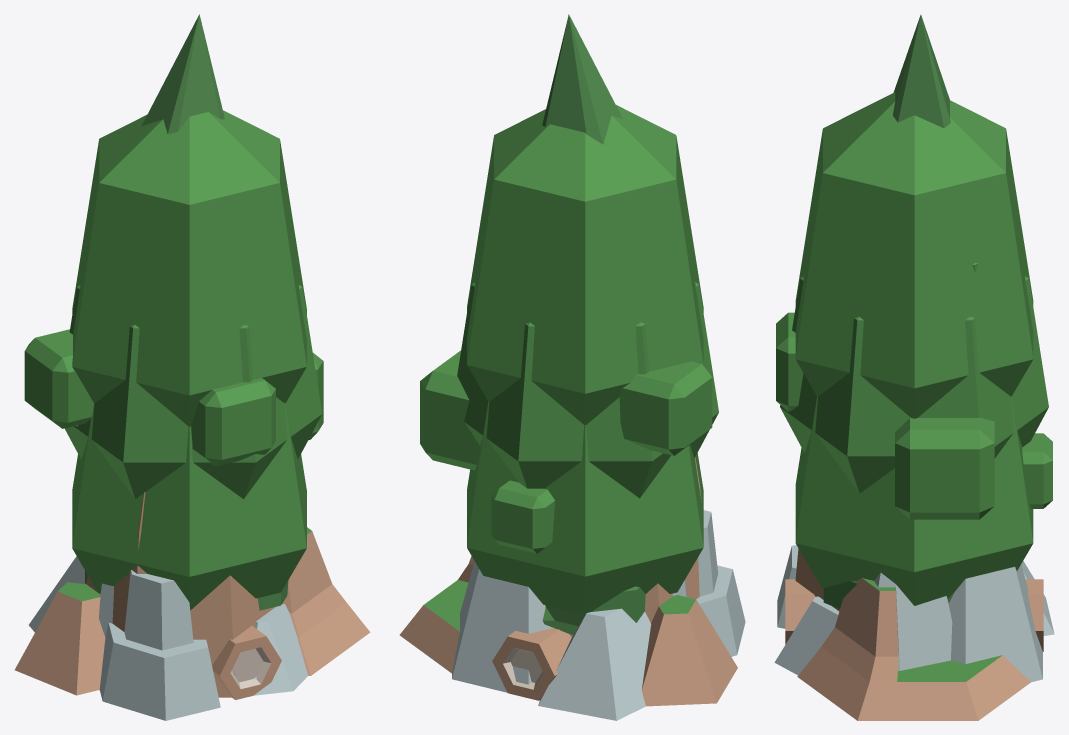
Rendered from olympia-props.glb.
3 renders of one model, left to right at view 1: azimuth 30°, elevation 25°; view 2: azimuth 150°, elevation 25°; view 3: azimuth 270°, elevation 25°, orthographic.
Parts seen in each view (by area): view 1: tree_default, tree_fat, rock_tallA, stone_tallB, tree_oak, tree_detailed, tree_pineTallB_detailed, log; view 2: tree_default, tree_fat, stone_tallB, tree_detailed, tree_oak, rock_tallA, tree_pineTallB_detailed, log, tree_pineSmallA; view 3: tree_default, tree_fat, rock_tallA, tree_oak, stone_tallB, tree_detailed, tree_pineTallB_detailed, log, tree_pineSmallA.
Boxes of the visible parts, x1,y1,x2,y2 form: tree_default: [72, 110, 306, 426]; tree_fat: [72, 403, 306, 610]; rock_tallA: [14, 492, 370, 697]; stone_tallB: [29, 556, 307, 720]; tree_oak: [64, 285, 322, 499]; tree_detailed: [24, 329, 323, 466]; tree_pineTallB_detailed: [141, 14, 224, 134]; log: [212, 626, 281, 699]; tree_default: [467, 105, 703, 425]; tree_fat: [467, 401, 703, 614]; stone_tallB: [452, 510, 745, 720]; tree_detailed: [420, 237, 712, 553]; tree_oak: [457, 282, 718, 498]; rock_tallA: [399, 457, 737, 706]; tree_pineTallB_detailed: [542, 14, 622, 144]; log: [492, 628, 571, 700]; tree_pineSmallA: [545, 586, 645, 626]; tree_default: [795, 92, 1033, 418]; tree_fat: [795, 396, 1033, 605]; rock_tallA: [795, 548, 1030, 720]; tree_oak: [780, 276, 1048, 493]; stone_tallB: [774, 545, 1054, 682]; tree_detailed: [776, 262, 1052, 519]; tree_pineTallB_detailed: [893, 14, 950, 128]; log: [785, 579, 1043, 651]; tree_pineSmallA: [823, 580, 954, 609].
Size of the model in its own units: 0.9831 by 1.93 by 0.77.
